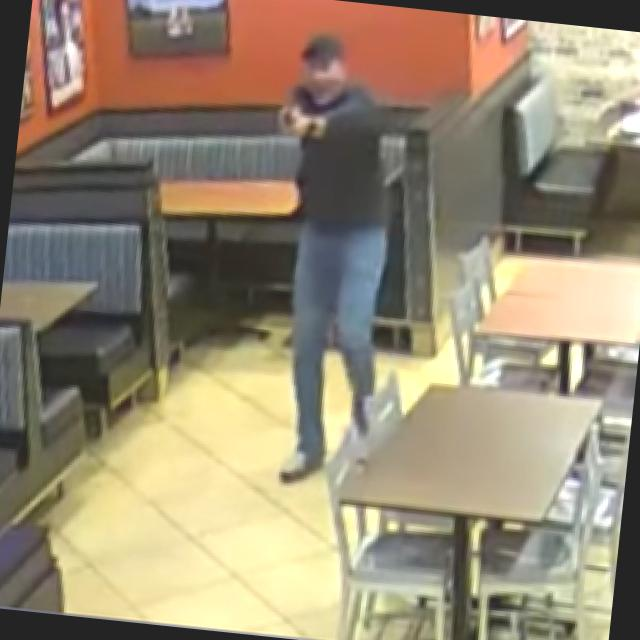person: (240, 28, 412, 491)
